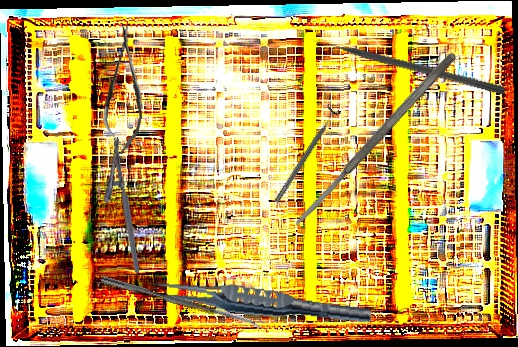Fixation Ring: (268, 103, 343, 207)
Micro Scissor: (100, 24, 149, 155)
Needle Holder: (94, 136, 141, 277)
Pusher: (311, 33, 507, 96)
Spatula Surgical: (289, 49, 460, 231)
Surgical Spoon: (100, 275, 265, 331)
Tissue Forceps: (145, 275, 373, 328)
